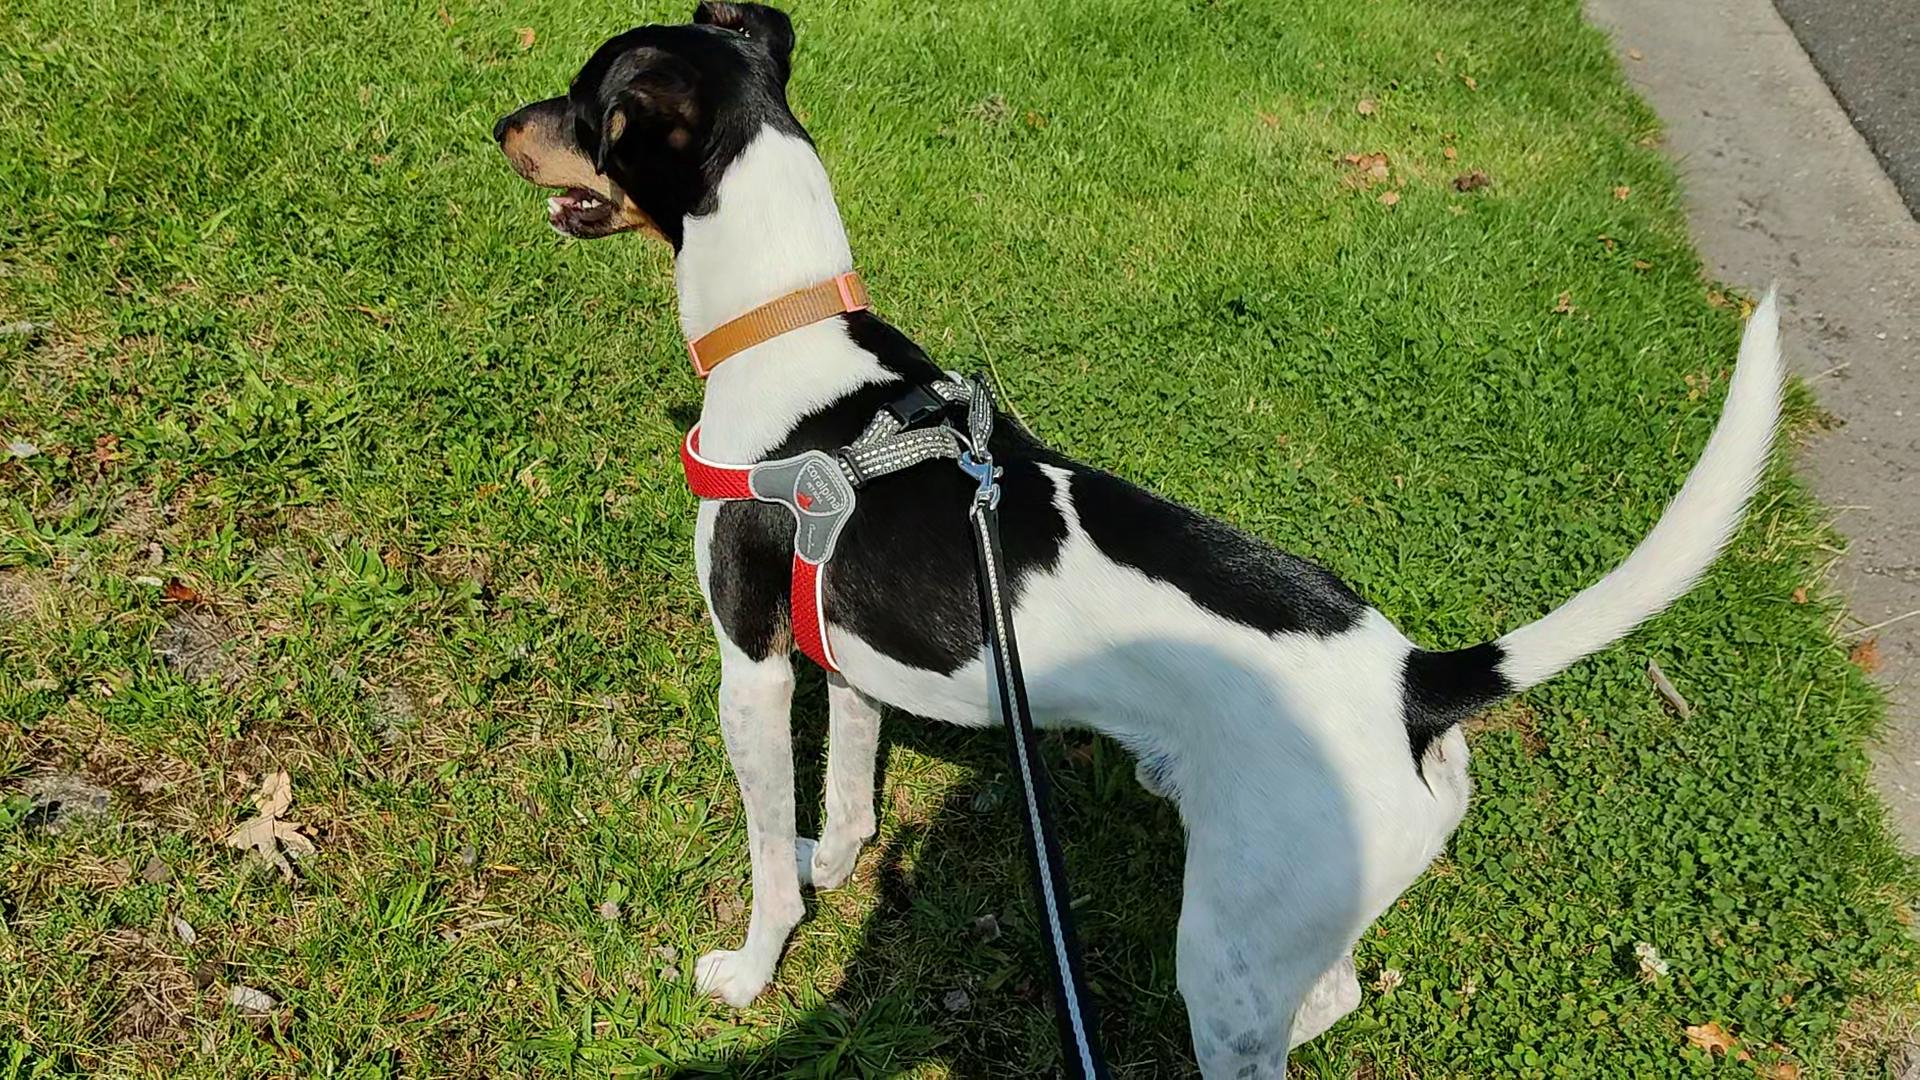Dog: (481, 0, 1793, 1080)
